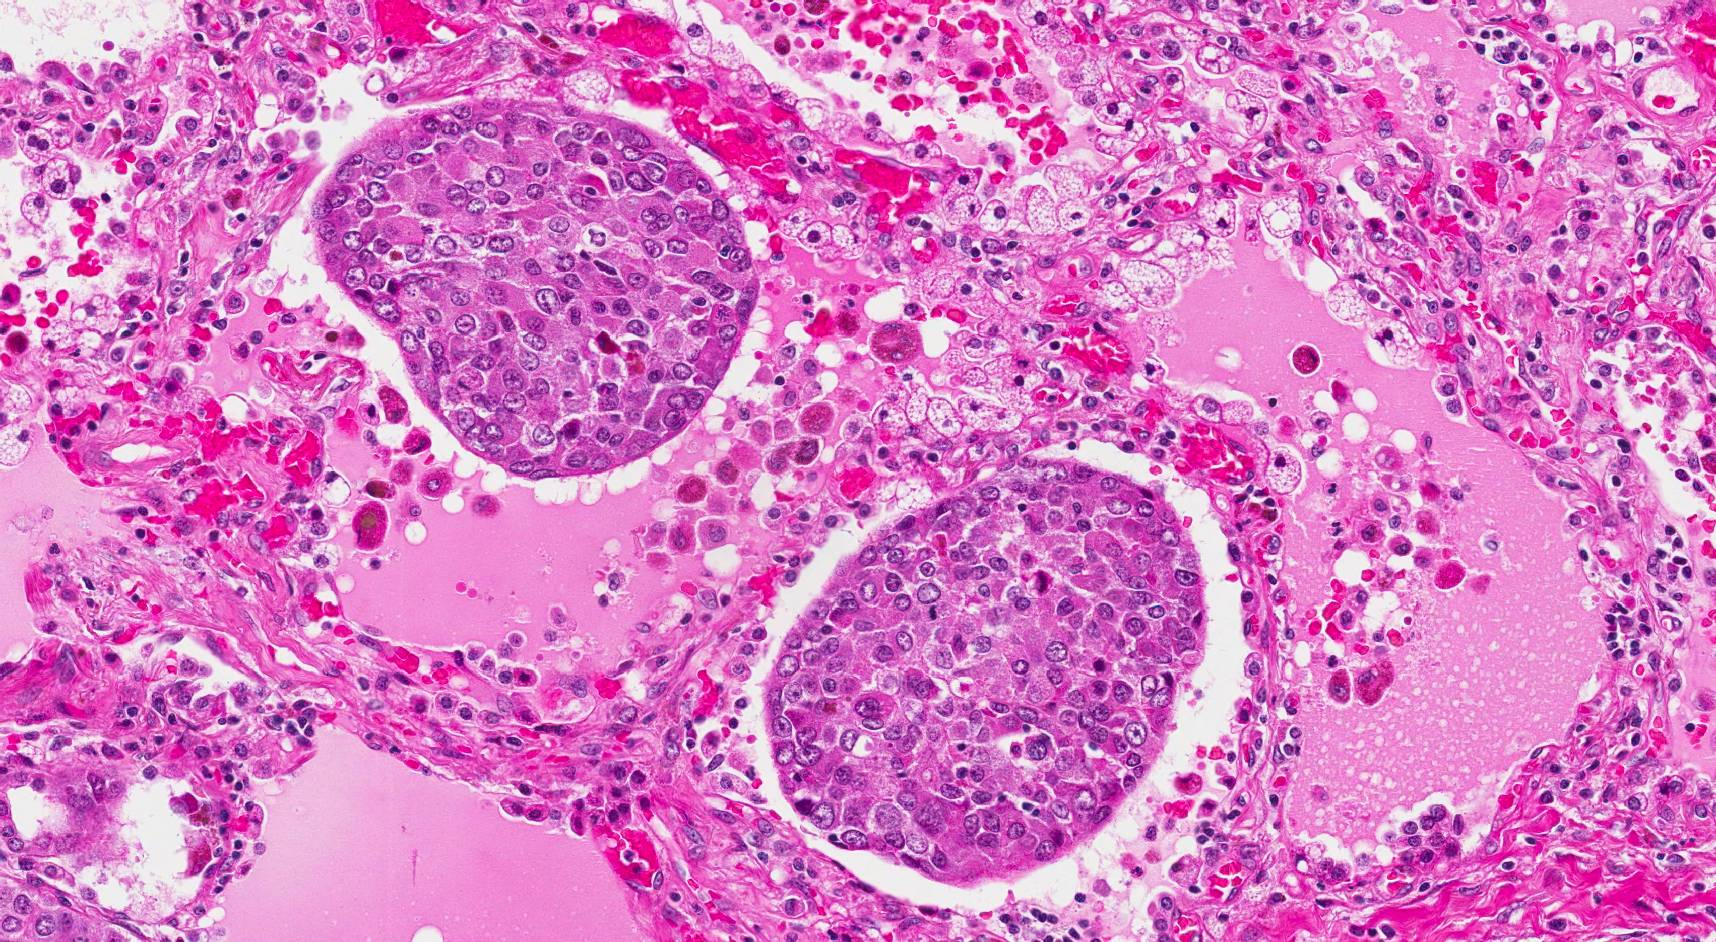stas: (763, 448, 1209, 880), (313, 95, 761, 482)
